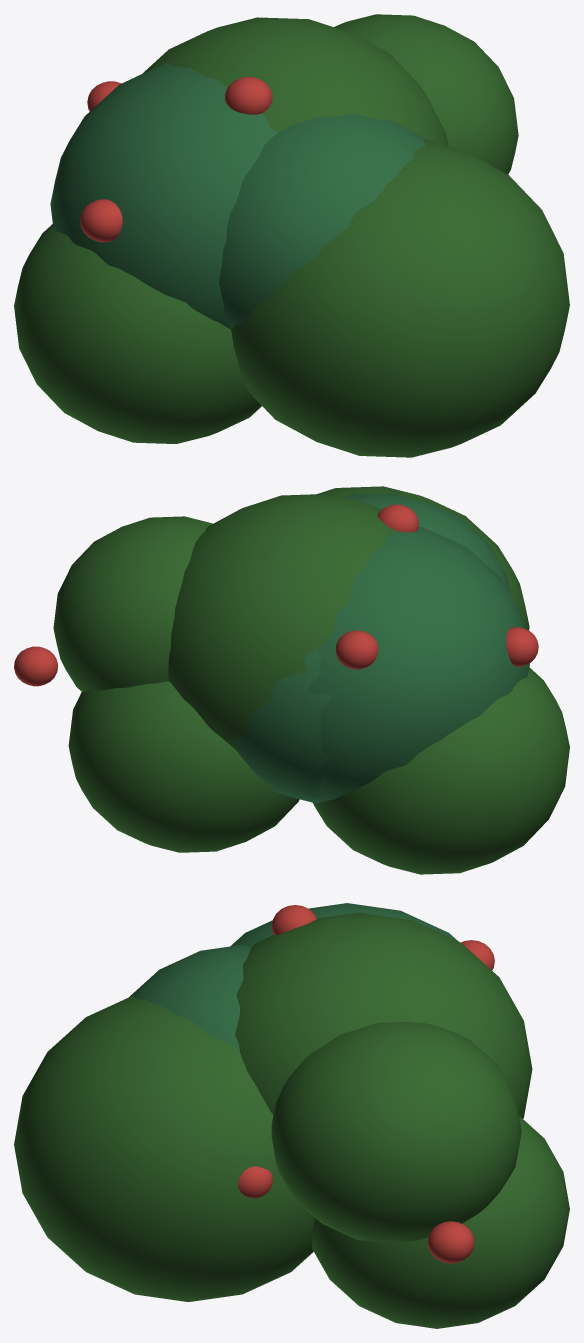
File: buisson_foret_2.glb
The picture shows the model from 3 angles, top to bottom: view 1: azimuth 30°, elevation 25°; view 2: azimuth 150°, elevation 25°; view 3: azimuth 270°, elevation 25°; orthographic projection. The views are drawn at different scales.
Parts seen in each view (by area): view 1: feuillage_feuille_sombre.012, feuillage_pin.004, feuillage_rouge.002; view 2: feuillage_feuille_sombre.012, feuillage_pin.004, feuillage_rouge.002; view 3: feuillage_feuille_sombre.012, feuillage_pin.004, feuillage_rouge.002.
Boxes of the visible parts, x1,y1,x2,y2 form: feuillage_feuille_sombre.012: [14, 14, 569, 457]; feuillage_pin.004: [50, 63, 425, 329]; feuillage_rouge.002: [80, 76, 272, 242]; feuillage_feuille_sombre.012: [53, 486, 569, 874]; feuillage_pin.004: [235, 493, 529, 803]; feuillage_rouge.002: [14, 504, 538, 686]; feuillage_feuille_sombre.012: [14, 912, 569, 1328]; feuillage_pin.004: [129, 903, 457, 1052]; feuillage_rouge.002: [238, 905, 494, 1263].
Bounding box in the file's own units: 0.7546 × 0.4907 × 0.709.
